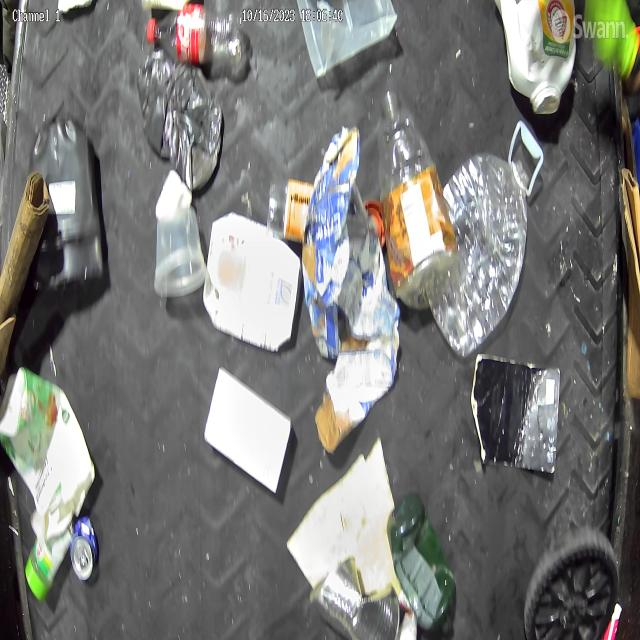can: (69, 518, 95, 568)
plastic_bottle: (148, 5, 242, 69)
